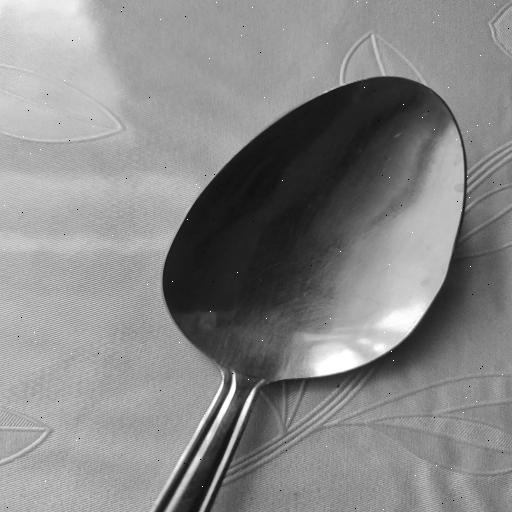spoon: (145, 72, 463, 512)
